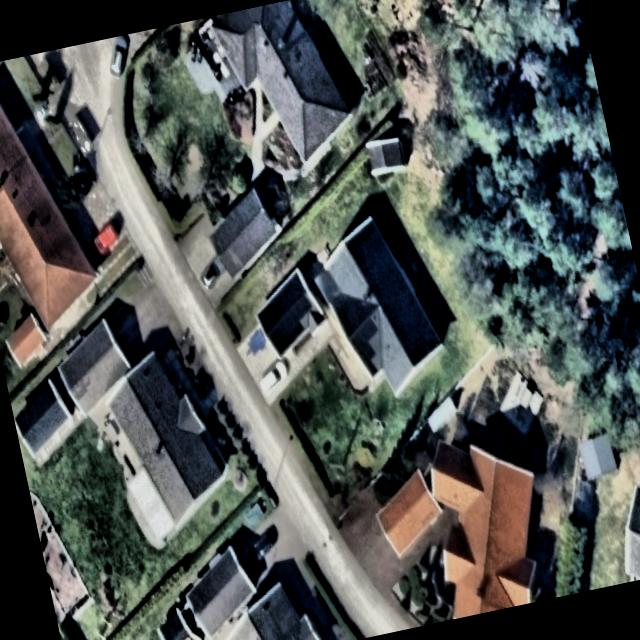roof_pv: (260, 291, 320, 355), (348, 316, 390, 381)
